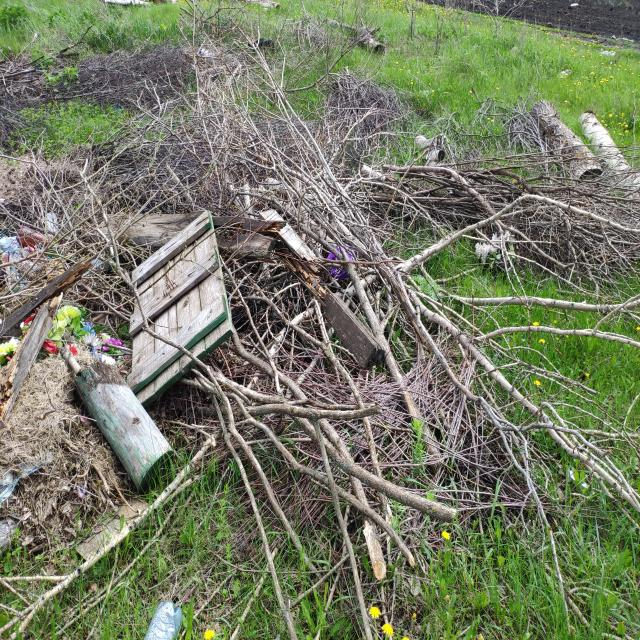restos de madeira: (138, 26, 416, 510), (373, 263, 640, 542), (61, 193, 228, 486), (0, 135, 182, 325), (379, 159, 640, 275), (120, 78, 245, 229), (497, 93, 634, 185), (2, 44, 190, 111), (321, 55, 425, 132), (301, 16, 385, 55)
